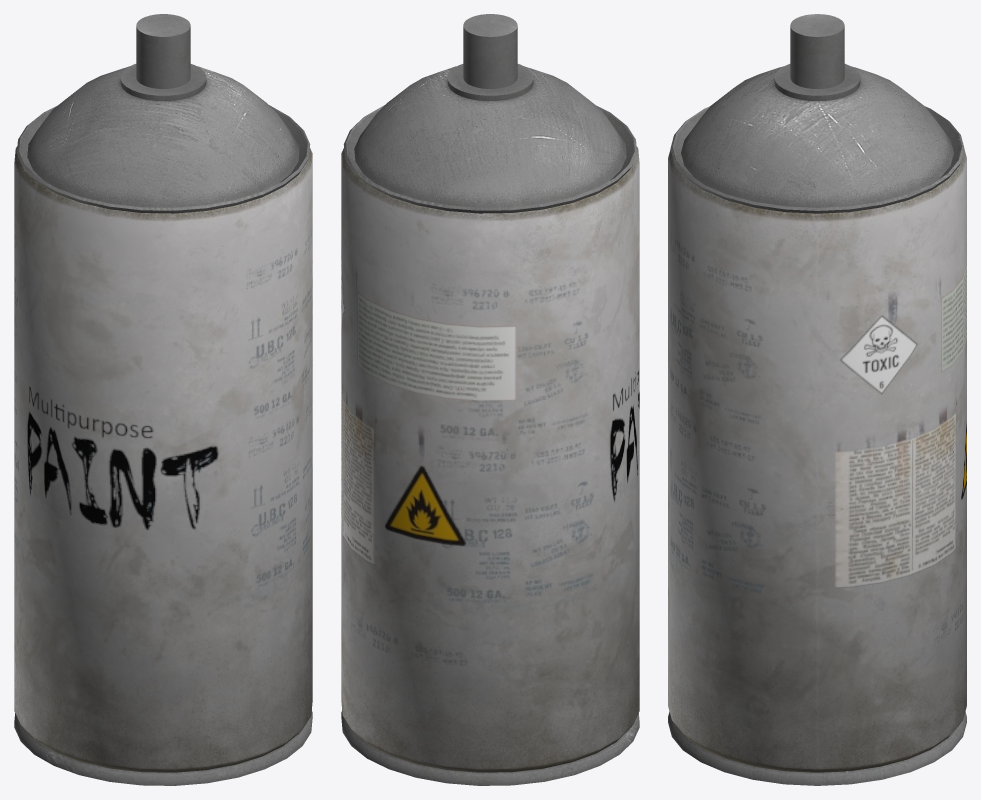
The model's file is can-small-02.fbx.
The picture shows the model from 3 angles, left to right: view 1: azimuth 30°, elevation 25°; view 2: azimuth 150°, elevation 25°; view 3: azimuth 270°, elevation 25°; orthographic projection.
Visible parts, largest first — view 1: can_small_02_can_small_0; view 2: can_small_02_can_small_0; view 3: can_small_02_can_small_0.
Part boxes in pixels (x1,y1,x2,y2): can_small_02_can_small_0: (14, 14, 312, 785); can_small_02_can_small_0: (341, 14, 639, 785); can_small_02_can_small_0: (668, 14, 966, 785).
Size of the model in its own units: 1.75 by 4.5 by 1.75.
